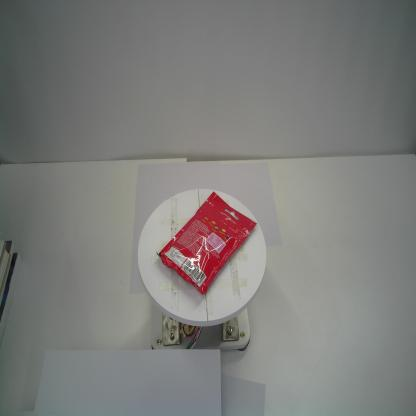Candy: (156, 190, 257, 295)
